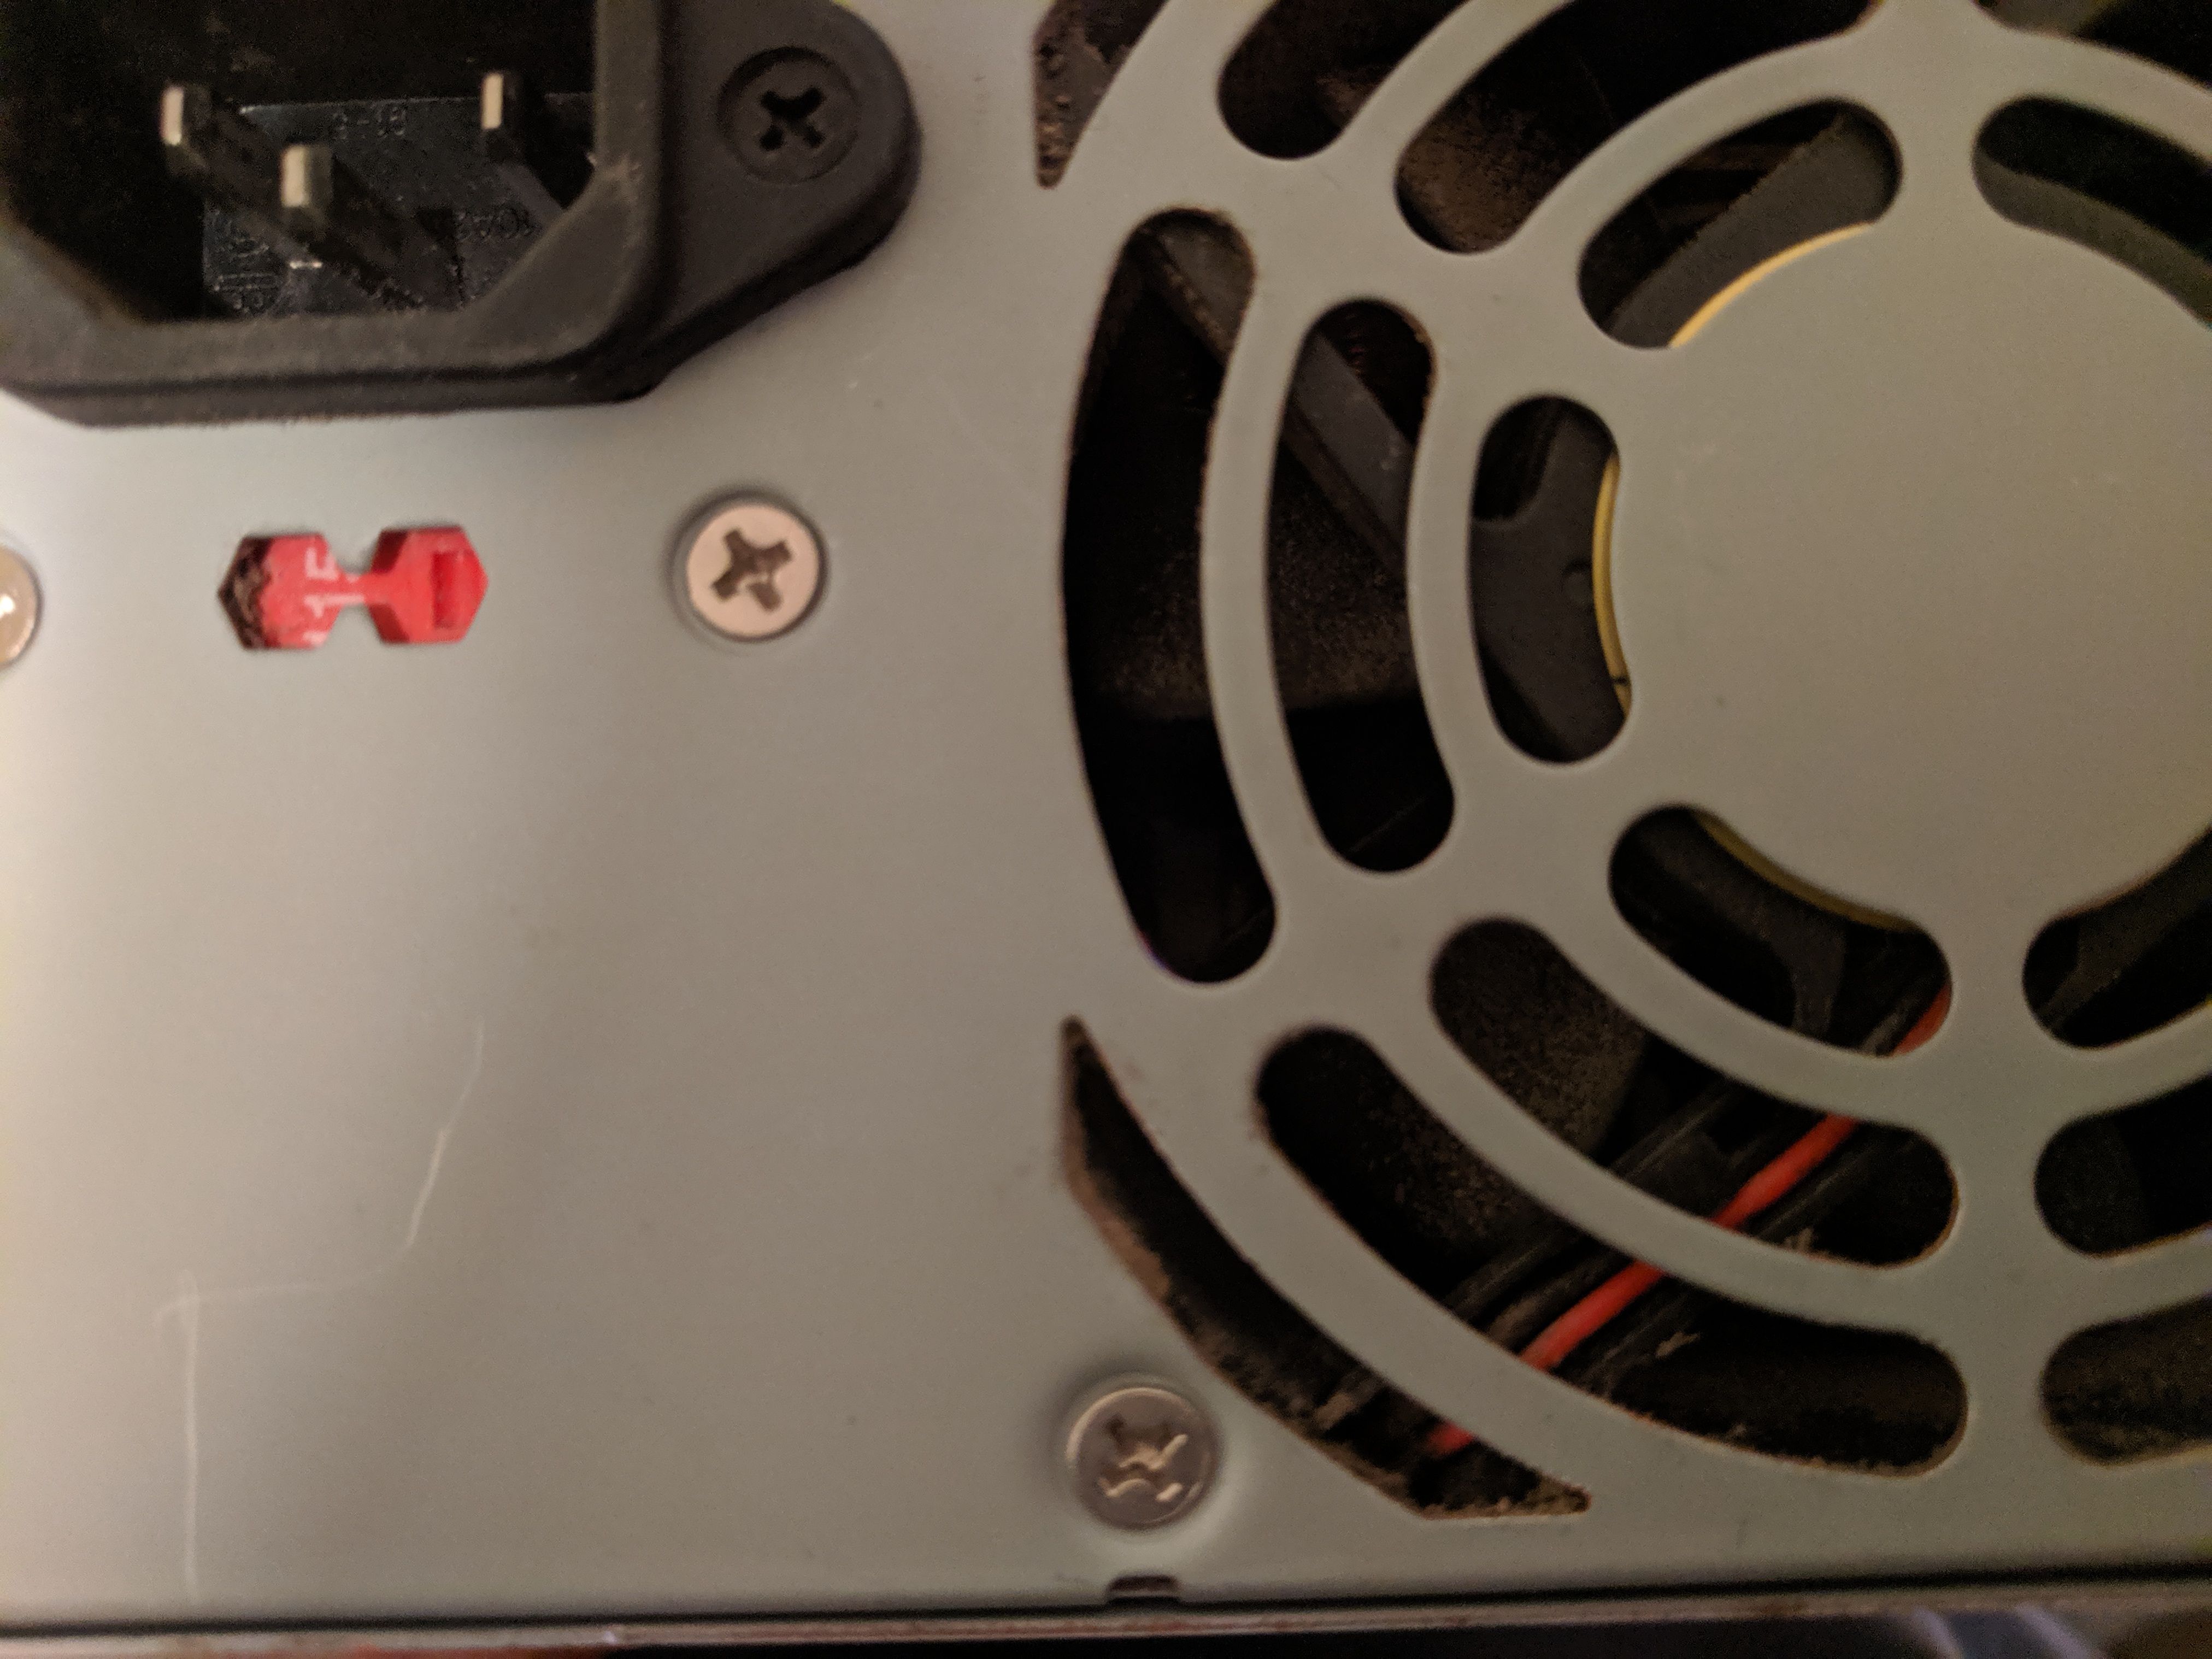cross_recessed_screw: (1052, 1382, 1221, 1527), (667, 491, 827, 634), (718, 47, 864, 181)
